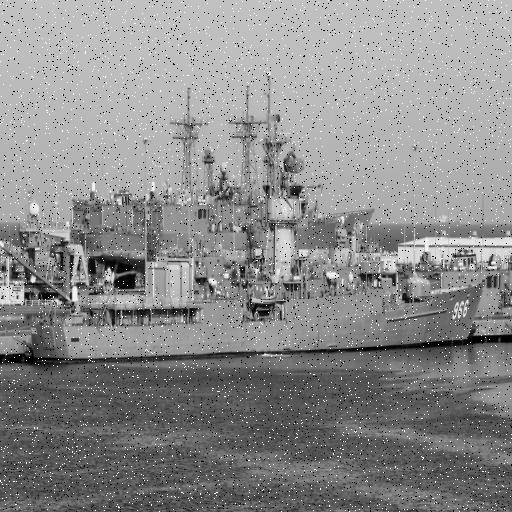Fragata: (27, 66, 487, 370)
